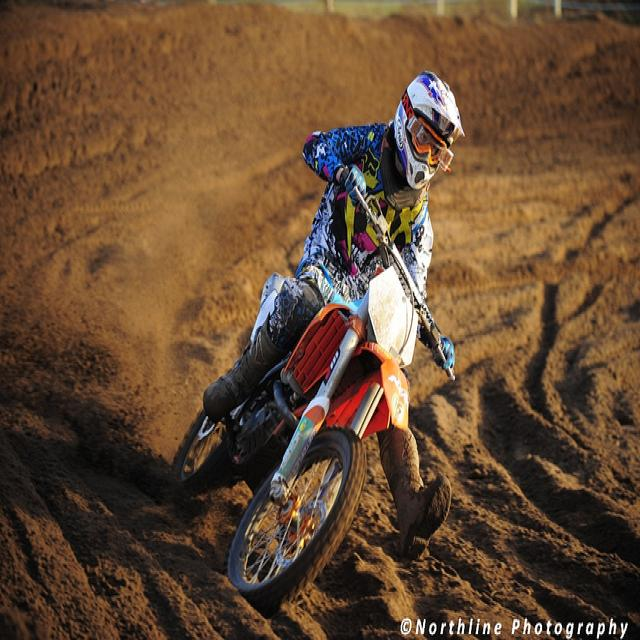motor: (170, 191, 449, 607)
